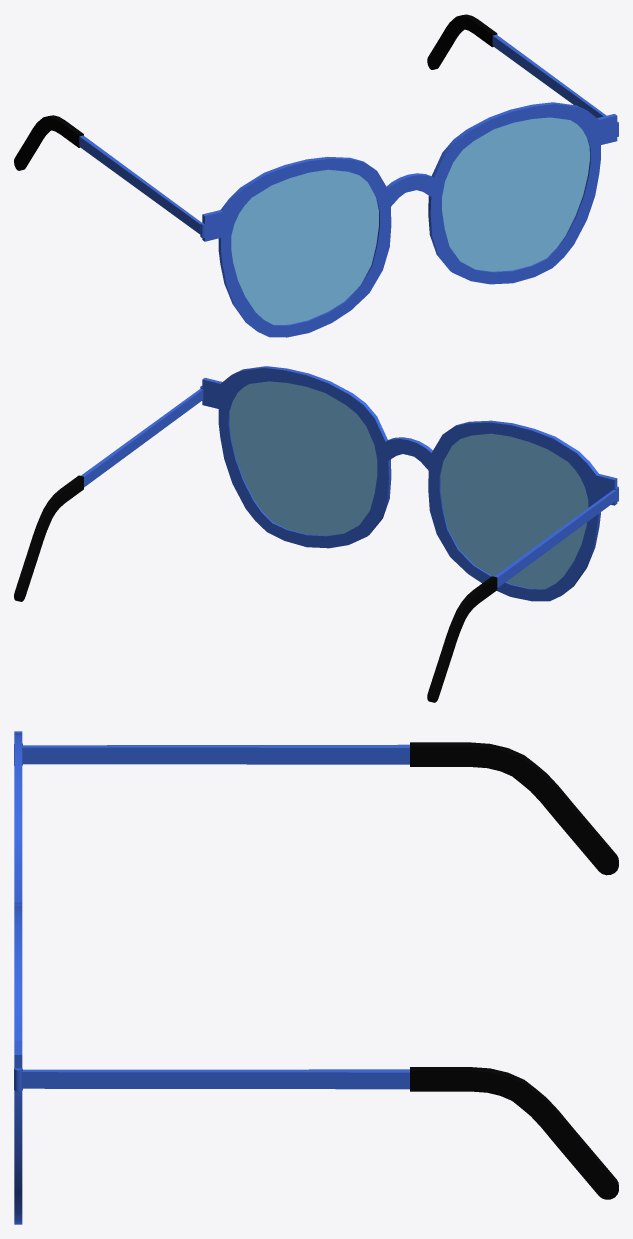
Rendered from Glasses-Dz9SyIEq7w.glb.
3 views of the same model, one above another, from view 1: azimuth 30°, elevation 25°; view 2: azimuth 150°, elevation 25°; view 3: azimuth 270°, elevation 25° (orthographic). The views are drawn at different scales.
Visible parts, largest first — view 1: Glasses-Dz9SyIEq7w; view 2: Glasses-Dz9SyIEq7w; view 3: Glasses-Dz9SyIEq7w.
Part boxes in pixels (<box>): Glasses-Dz9SyIEq7w: <box>14,14,618,337</box>; Glasses-Dz9SyIEq7w: <box>14,366,618,702</box>; Glasses-Dz9SyIEq7w: <box>14,731,618,1224</box>.
Bounding box in the file's own units: 2.08 × 0.8173 × 1.62.
